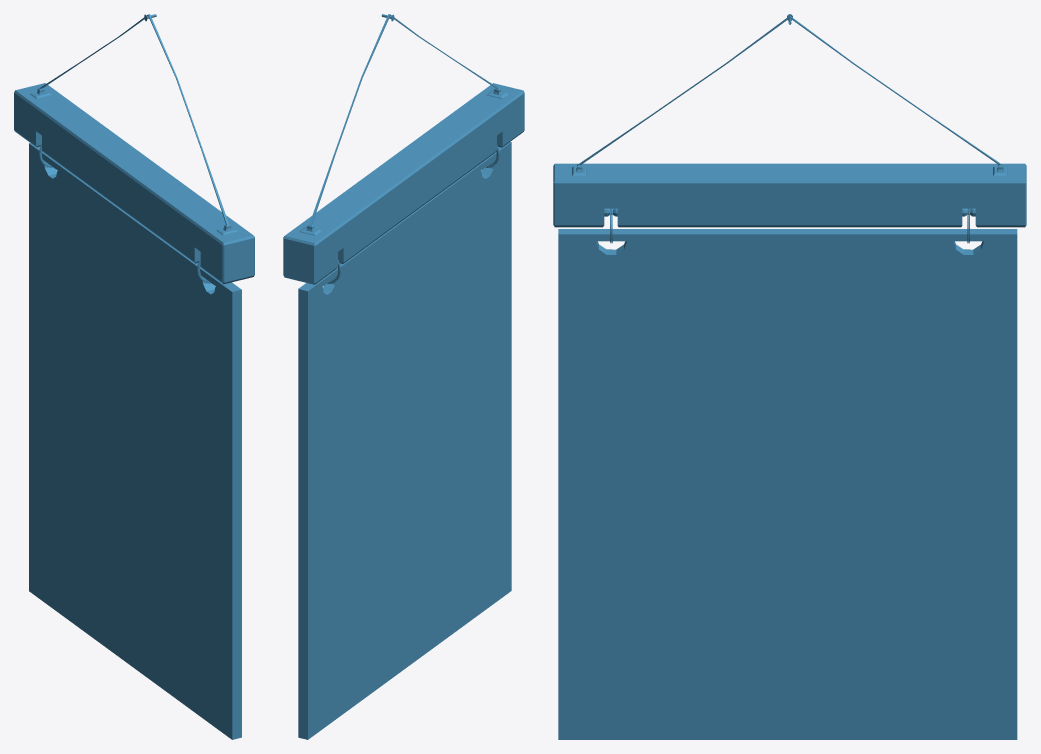
File: calendar.fbx
3 renders of one model, left to right at view 1: azimuth 30°, elevation 25°; view 2: azimuth 150°, elevation 25°; view 3: azimuth 270°, elevation 25°, orthographic. The views are drawn at different scales.
Parts seen in each view (by area): view 1: pCylinder10; view 2: pCylinder10; view 3: pCylinder10.
Part boxes in pixels (x1,y1,x2,y2): pCylinder10: (14, 14, 254, 739); pCylinder10: (283, 14, 524, 739); pCylinder10: (553, 14, 1026, 739).
Size of the model in its own units: 0.0993 by 1.62 by 0.9527.
